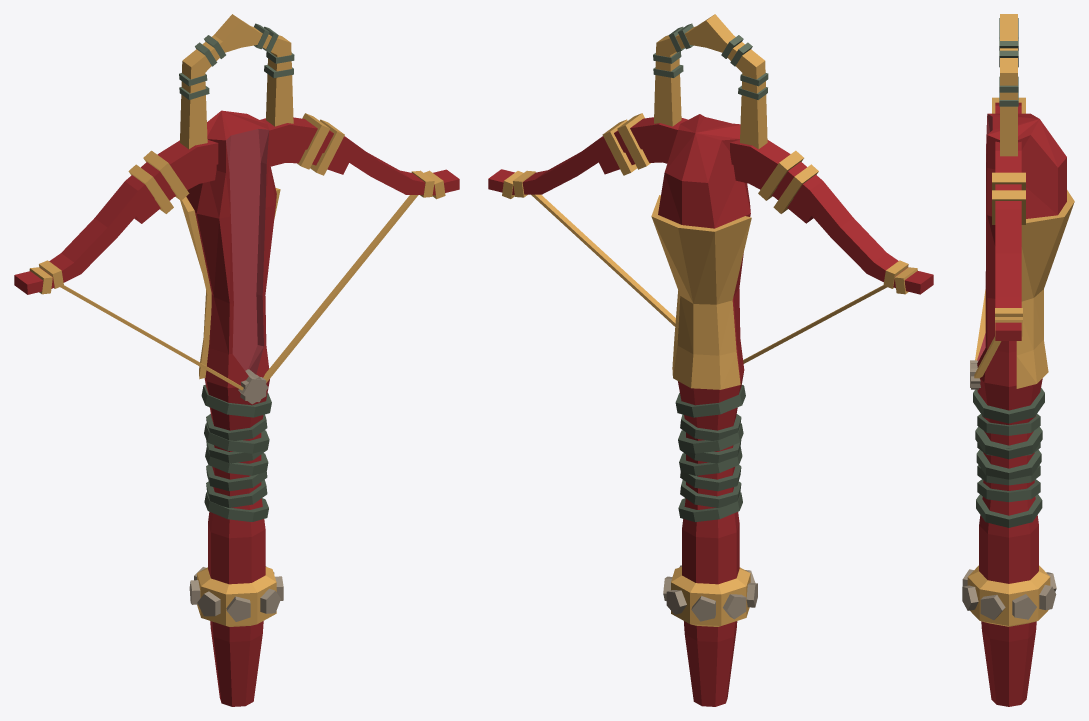
File: _crossbow_2.glb
3 views of the same model, side by side, from view 1: azimuth 30°, elevation 25°; view 2: azimuth 150°, elevation 25°; view 3: azimuth 270°, elevation 25° (orthographic).
Visible parts, largest first — view 1: crossbow_2; view 2: crossbow_2; view 3: crossbow_2.
Part boxes in pixels (<box>): crossbow_2: <box>14,14,459,706</box>; crossbow_2: <box>488,14,933,706</box>; crossbow_2: <box>962,14,1074,706</box>.
Bounding box in the file's own units: 20989 × 31662 × 4712.
1 material, 1 textured.
